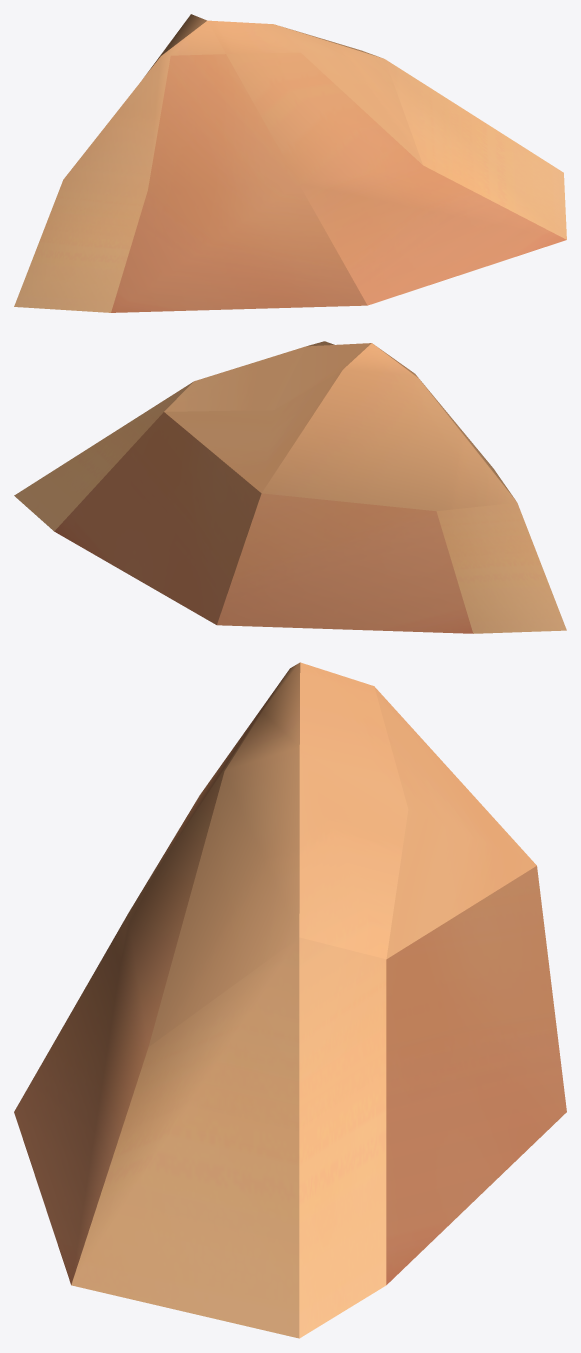
File: deco03.fbx
3 views of the same model, one above another, from view 1: azimuth 30°, elevation 25°; view 2: azimuth 150°, elevation 25°; view 3: azimuth 270°, elevation 25° (orthographic). The views are drawn at different scales.
Parts seen in each view (by area): view 1: pCube1; view 2: pCube1; view 3: pCube1.
Part boxes in pixels (left/top/right/bottom): pCube1: left=14, top=14, right=566, bottom=312; pCube1: left=14, top=341, right=566, bottom=633; pCube1: left=14, top=662, right=566, bottom=1338.
Size of the model in its own units: 9.04 by 3.75 by 4.8.
